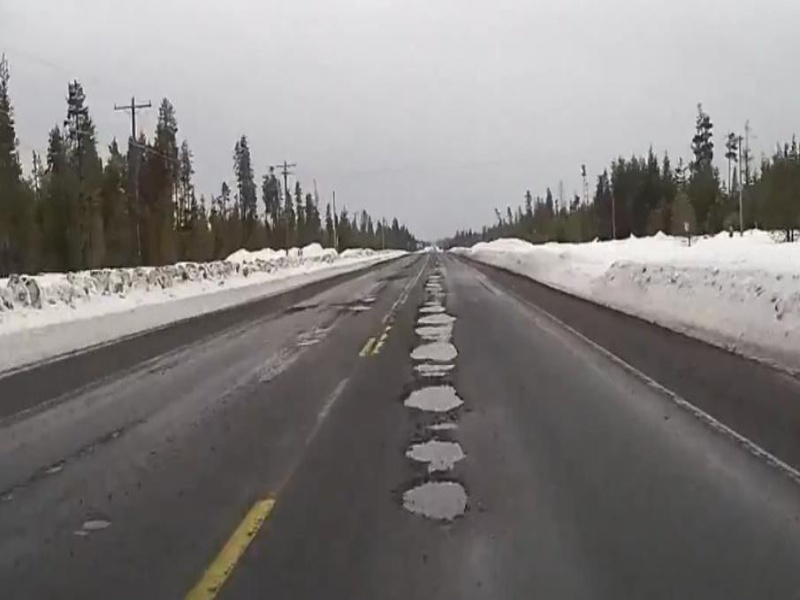pothole: (395, 472, 470, 526), (399, 377, 465, 417), (403, 435, 467, 475), (406, 337, 460, 365), (407, 322, 458, 338), (412, 311, 457, 326), (73, 516, 111, 533), (413, 303, 446, 316)
